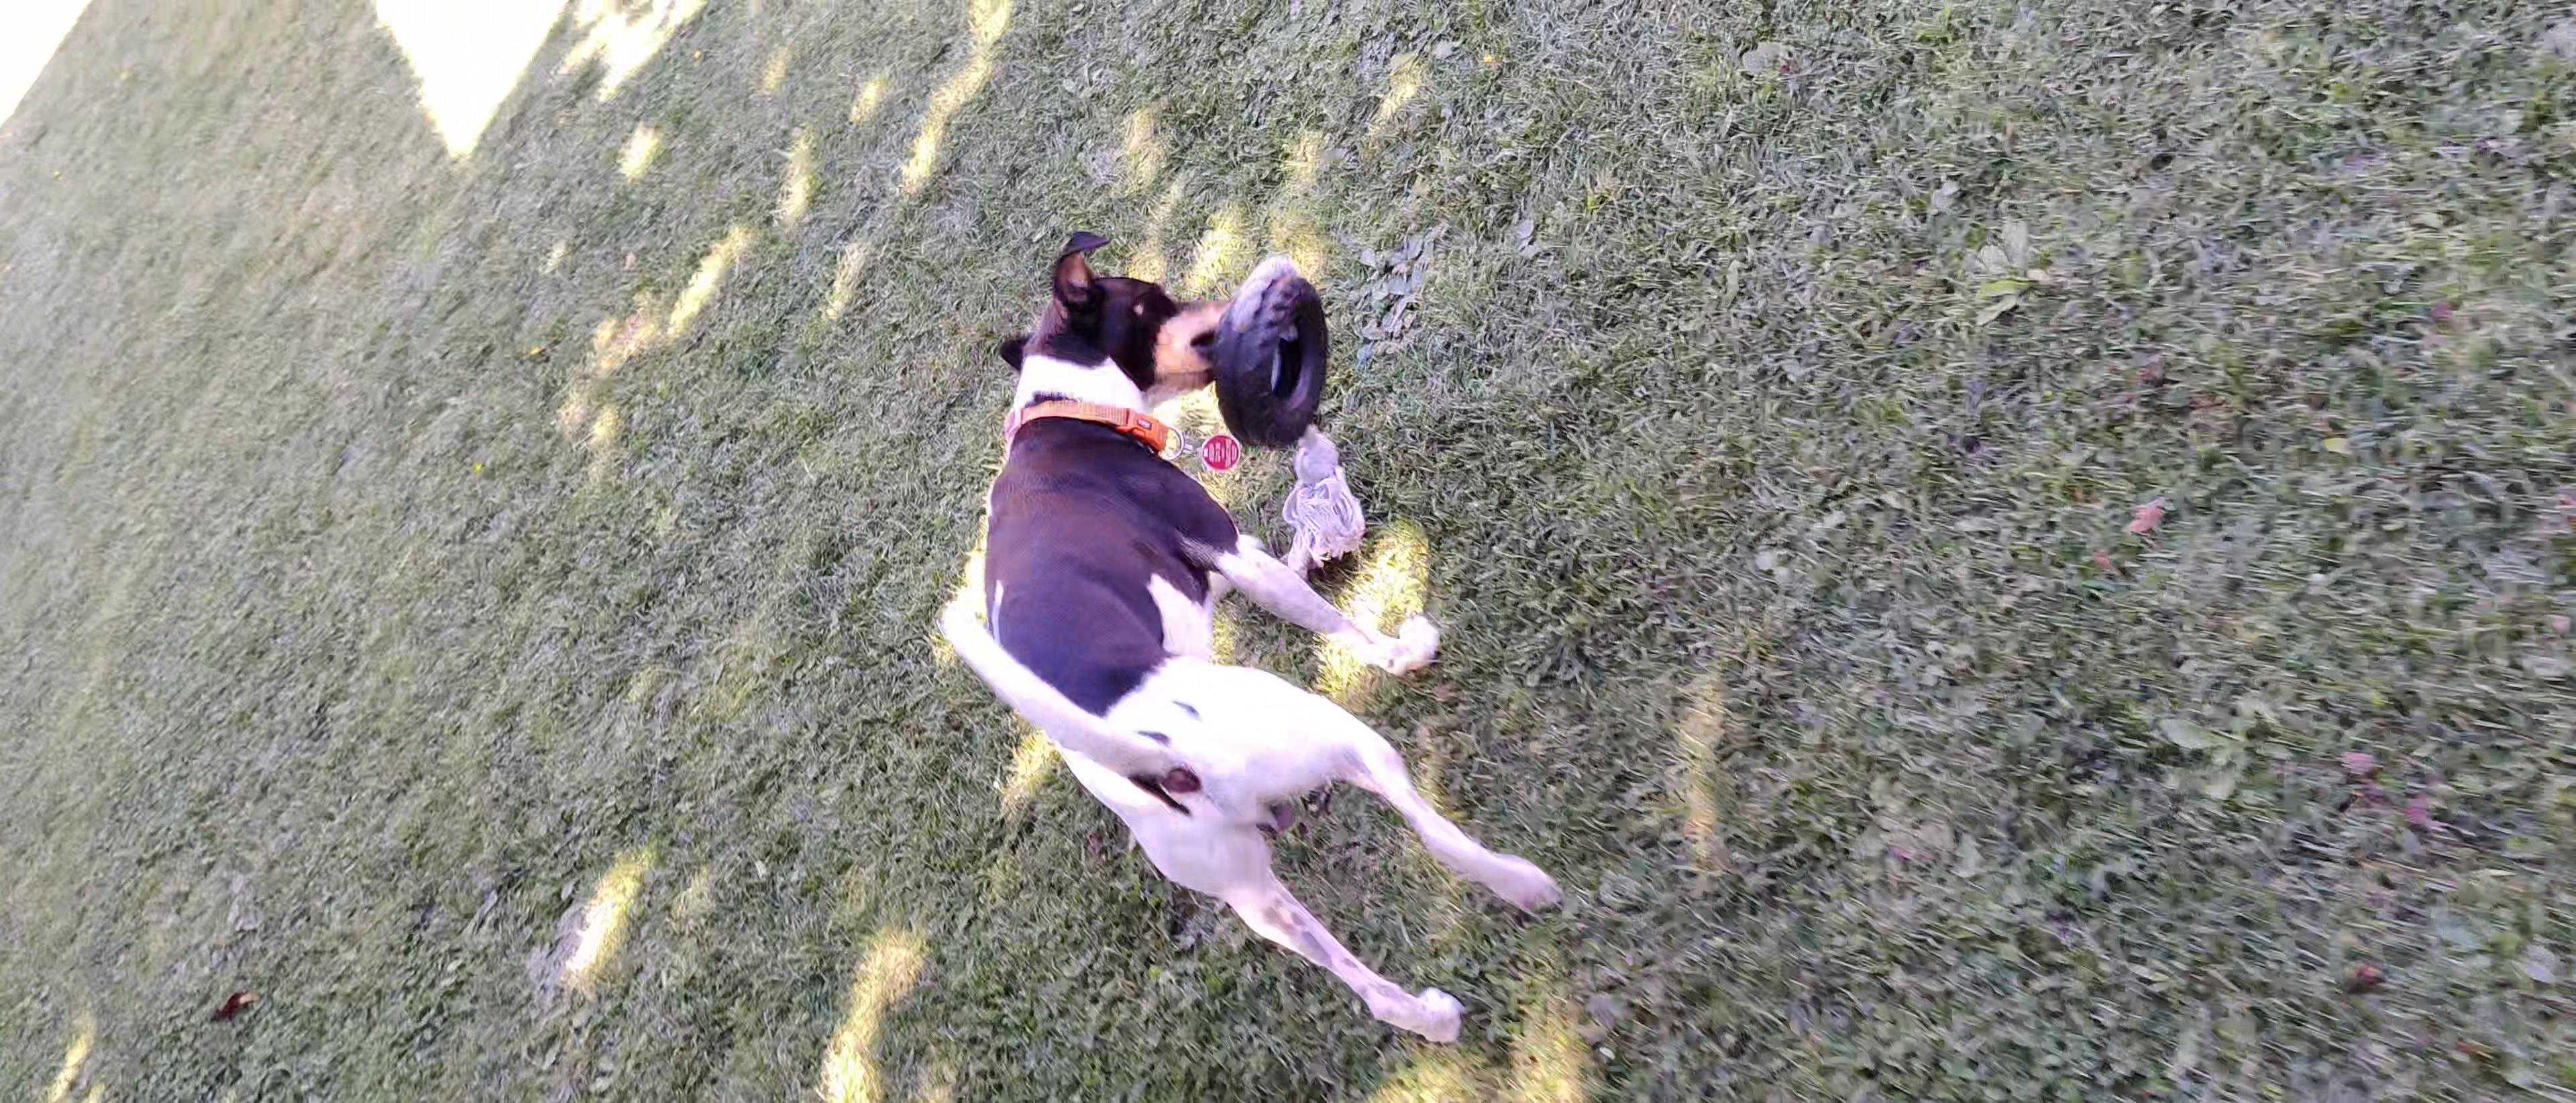Dog: (923, 219, 1577, 1049)
